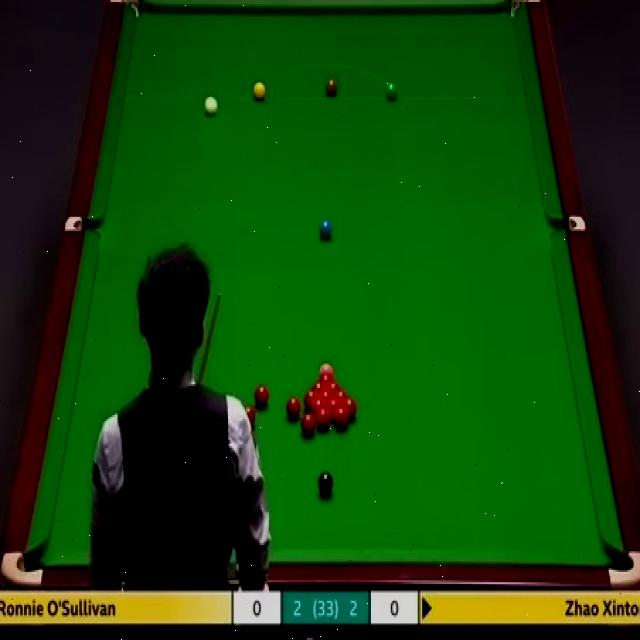black-ball: (318, 470, 334, 496)
blue-ball: (319, 220, 333, 237)
brown-ball: (326, 78, 338, 98)
green-ball: (384, 79, 399, 102)
pink-ball: (319, 363, 334, 378)
red-ball: (300, 411, 318, 435), (331, 408, 350, 430), (318, 406, 334, 428), (254, 384, 269, 406), (340, 397, 355, 418), (286, 397, 301, 418), (327, 398, 341, 419), (305, 389, 317, 402), (321, 390, 331, 403), (320, 375, 330, 387)
white-ball: (204, 96, 218, 119)
yellow-ball: (253, 80, 266, 102)
